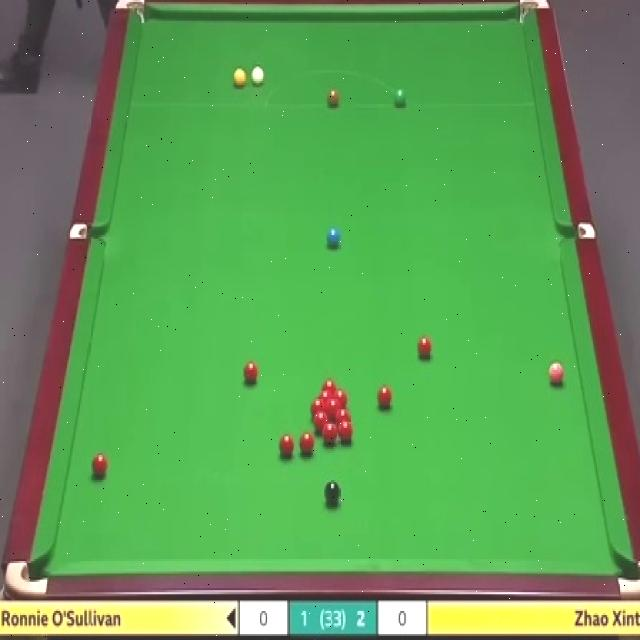black-ball: (324, 480, 341, 506)
blue-ball: (326, 226, 341, 249)
brown-ball: (327, 88, 340, 108)
green-ball: (394, 87, 406, 107)
pink-ball: (547, 360, 566, 389)
red-ball: (90, 452, 108, 480), (416, 337, 433, 362), (242, 360, 258, 386), (376, 385, 392, 410), (278, 433, 294, 457), (322, 421, 338, 444), (299, 433, 314, 457), (338, 419, 353, 443), (331, 389, 348, 406), (313, 412, 328, 431), (325, 399, 341, 414), (334, 408, 351, 422), (310, 398, 326, 411), (321, 378, 338, 390), (318, 389, 335, 398)
white-ball: (249, 64, 264, 87)
yellow-ball: (233, 67, 246, 90)
